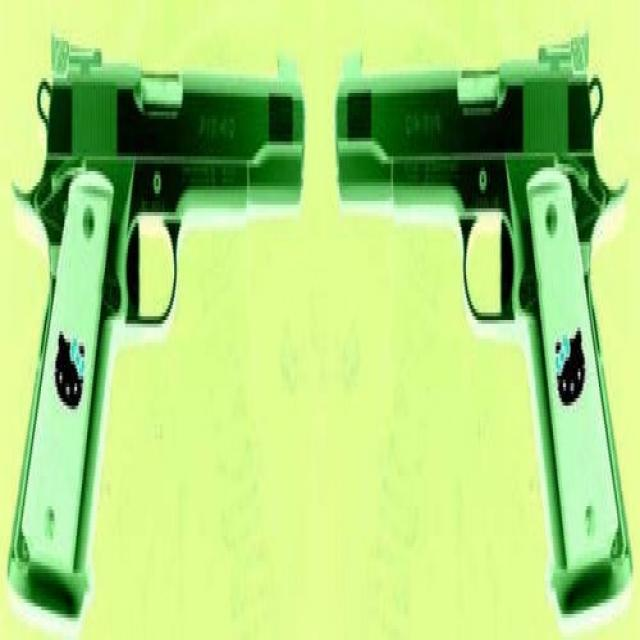gun: (3, 41, 321, 640), (324, 32, 632, 635)
